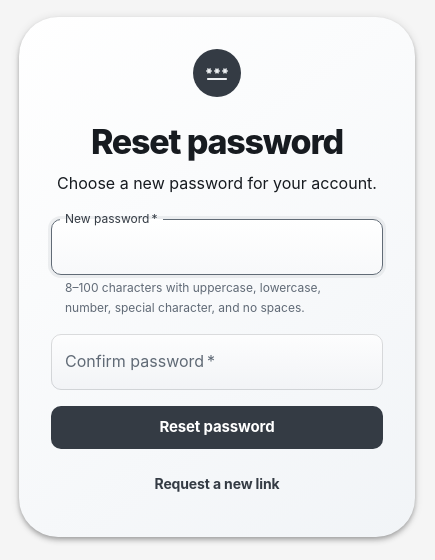
Test case: ResetPasswordPage › resets the password and returns the user to sign in
Type "Stronger@456" into the password field labelled "New password *" at (217, 248), box [51,220,383,276]
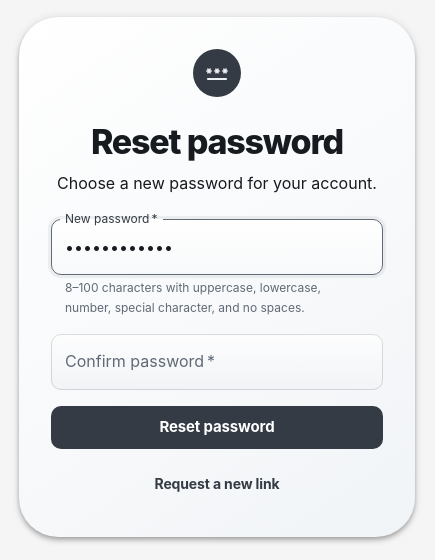
Type "Stronger@456" into the password field labelled "Confirm password *" at (217, 362), box [51,334,383,390]
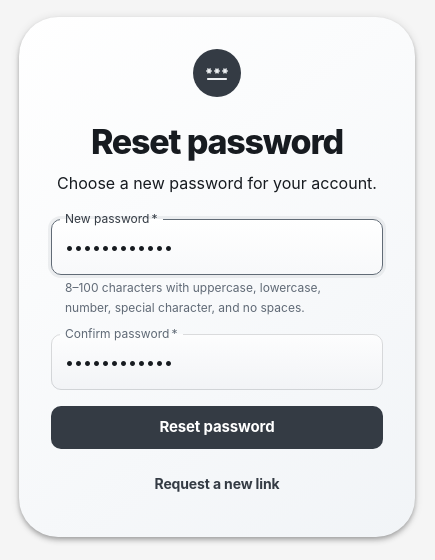
Click the button "Reset password" at (217, 427), box [51,406,383,449]
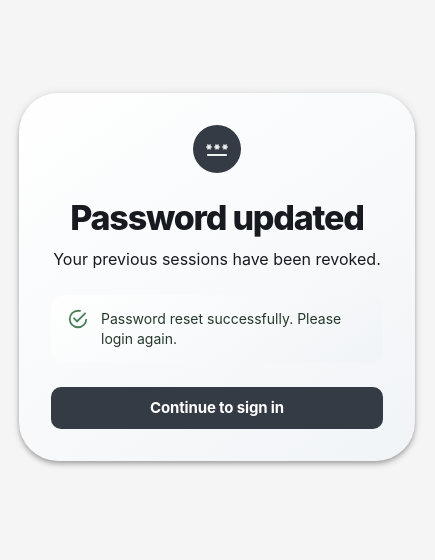
Now the heading "Password updated" is shown, box [53,197,381,239]
